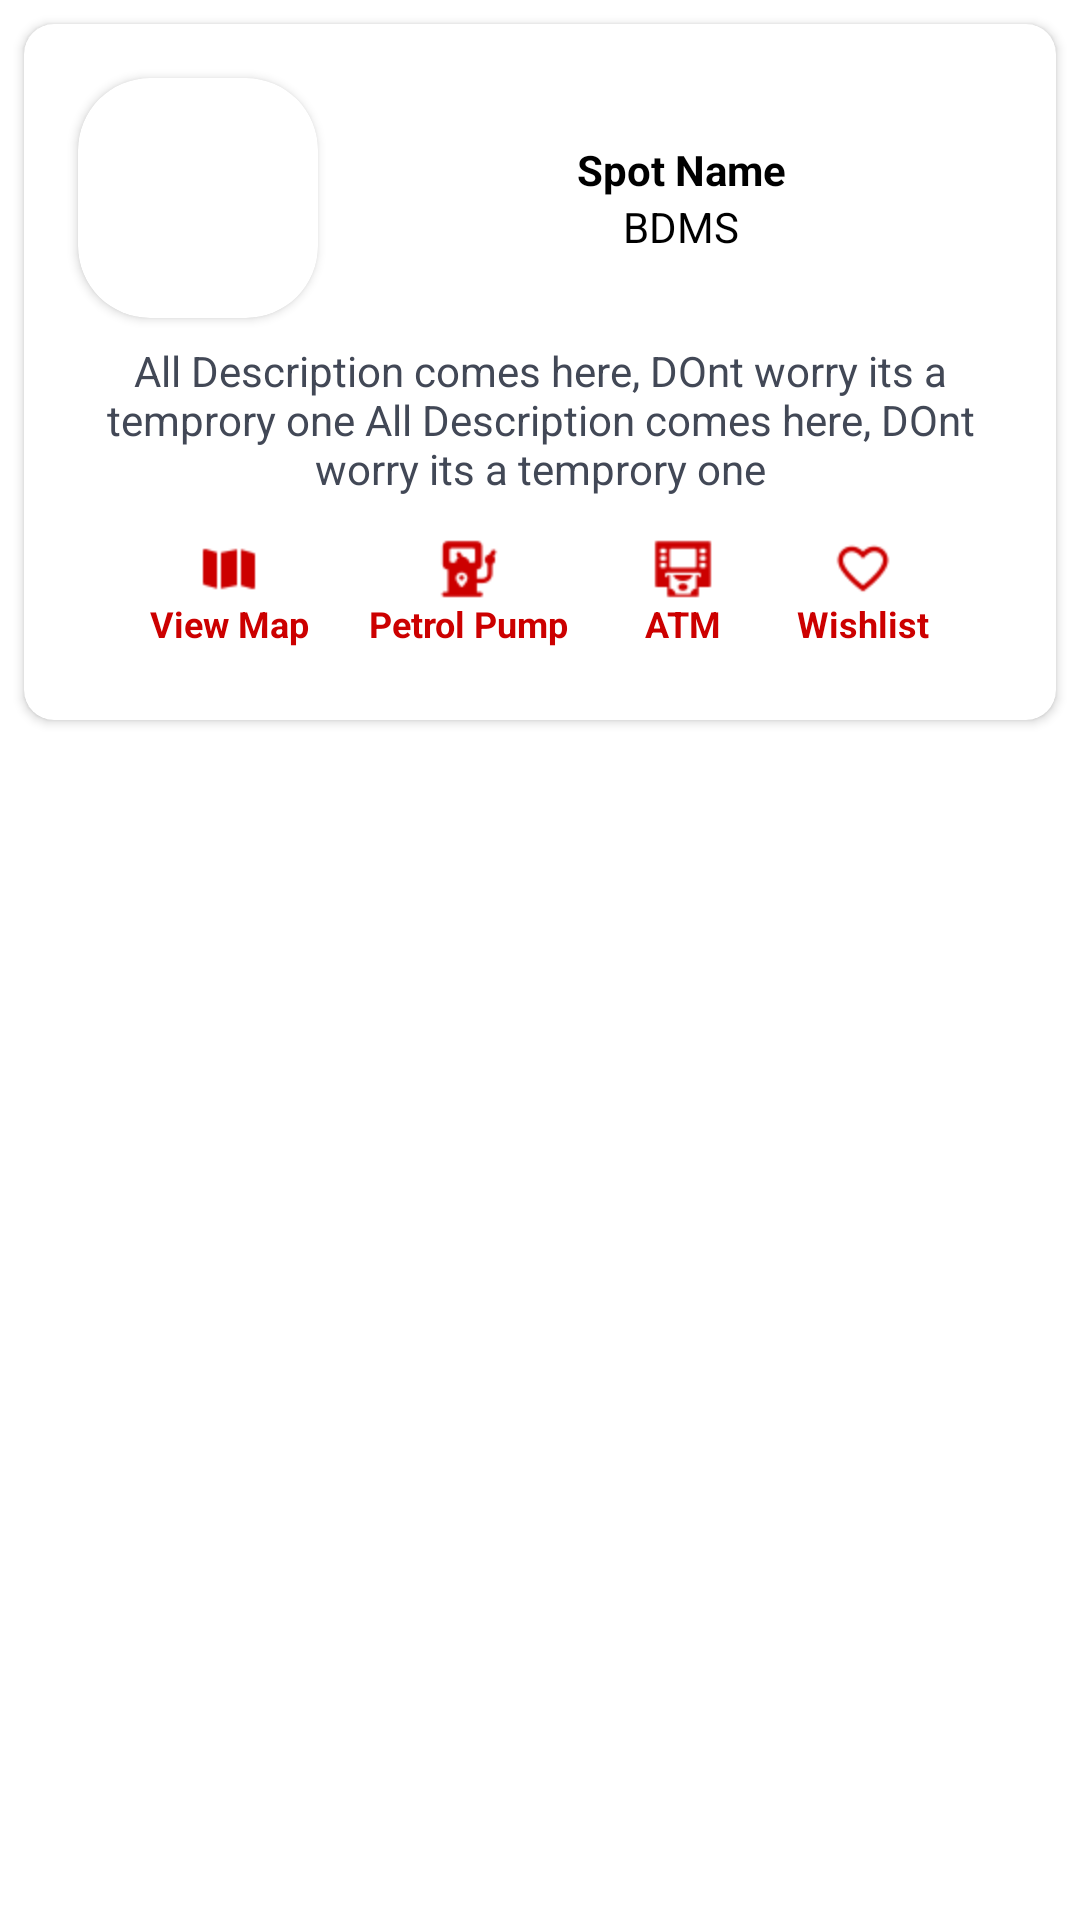

Where to tap for icons on this 1080*1920 app screen, as [x,y]:
like unfill: [863,568]
